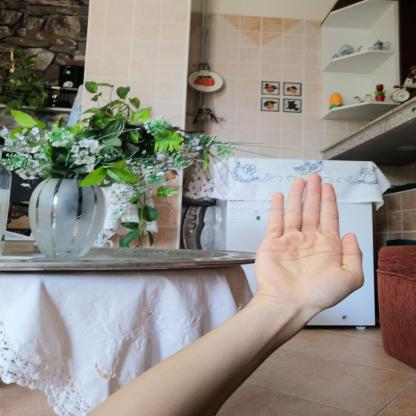SEEN: (241, 164, 372, 319)
